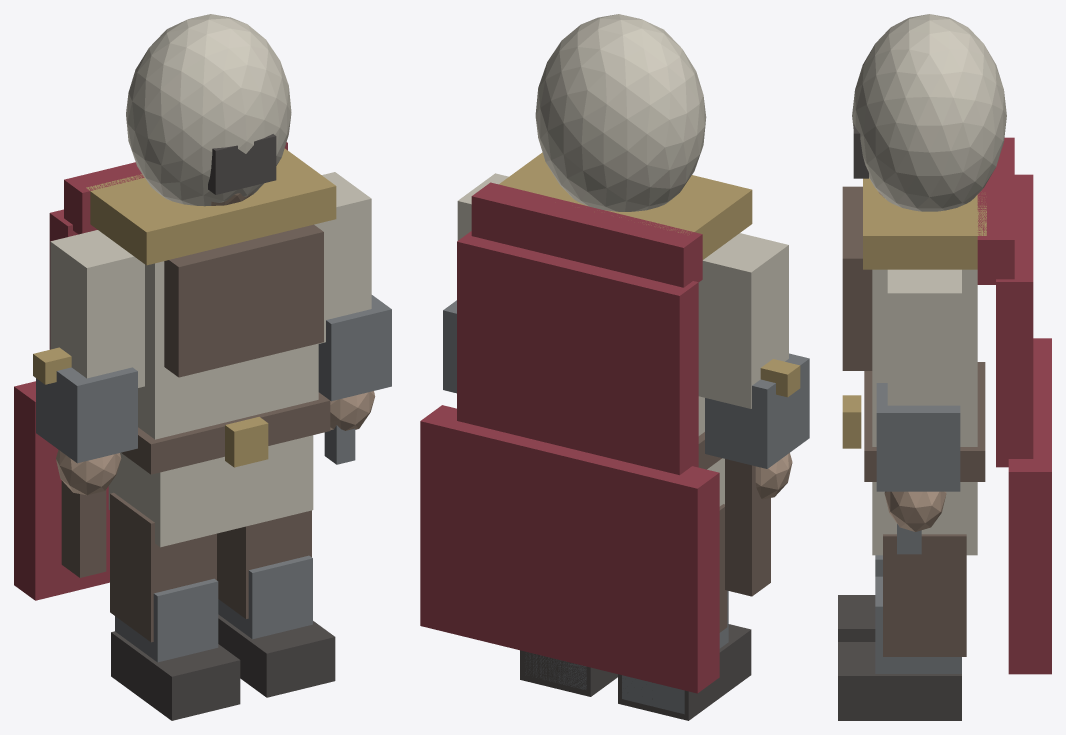
File: MUEANG_ISARA_Main_Assassin_02.glb
3 views of the same model, side by side, from view 1: azimuth 30°, elevation 25°; view 2: azimuth 150°, elevation 25°; view 3: azimuth 270°, elevation 25° (orthographic). The views are drawn at different scales.
Visible parts, largest first — view 1: Raised_Hood, Chest_Armor, Shoulder_Trim, Pelvis_Tunic, Tunic_Torso, L_UpperSleeve, Cape_Lower, L_Thigh, L_Bracer, L_Boot, R_Boot, R_UpperSleeve (+14 smaller); view 2: Cape_Lower, Cape_Upper, Raised_Hood, Cape_Shoulder, L_UpperSleeve, L_Bracer, Shoulder_Trim, Sword_Sheath, L_Boot, R_Boot, L_Greave, R_Bracer (+5 smaller); view 3: Raised_Hood, Cape_Lower, R_UpperSleeve, R_Thigh, Cape_Upper, Shoulder_Trim, R_Bracer, R_Boot, Tunic_Torso, Chest_Armor, Cape_Shoulder, Pelvis_Tunic (+7 smaller).
Boxes of the visible parts, bbox=[...] form: Raised_Hood: bbox=[126, 14, 291, 206]; Chest_Armor: bbox=[164, 224, 323, 377]; Shoulder_Trim: bbox=[86, 148, 336, 265]; Pelvis_Tunic: bbox=[108, 435, 313, 547]; Tunic_Torso: bbox=[138, 223, 318, 439]; L_UpperSleeve: bbox=[50, 230, 144, 387]; Cape_Lower: bbox=[14, 381, 109, 600]; L_Thigh: bbox=[110, 492, 216, 642]; L_Bracer: bbox=[36, 367, 137, 463]; L_Boot: bbox=[111, 631, 240, 720]; R_Boot: bbox=[218, 614, 335, 697]; R_UpperSleeve: bbox=[318, 172, 371, 343]; Cape_Lower: bbox=[420, 405, 719, 693]; Cape_Upper: bbox=[457, 231, 698, 475]; Raised_Hood: bbox=[535, 14, 706, 211]; Cape_Shoulder: bbox=[471, 182, 702, 287]; L_UpperSleeve: bbox=[698, 233, 788, 408]; L_Bracer: bbox=[705, 353, 809, 468]; Shoulder_Trim: bbox=[499, 152, 752, 259]; Sword_Sheath: bbox=[725, 459, 770, 596]; L_Boot: bbox=[618, 624, 751, 720]; R_Boot: bbox=[520, 650, 617, 696]; L_Greave: bbox=[622, 590, 728, 714]; R_Bracer: bbox=[443, 300, 456, 393]; Raised_Hood: bbox=[852, 14, 1006, 211]; Cape_Lower: bbox=[1008, 338, 1051, 674]; R_UpperSleeve: bbox=[887, 269, 961, 427]; R_Thigh: bbox=[883, 534, 966, 656]; Cape_Upper: bbox=[996, 174, 1033, 467]; Shoulder_Trim: bbox=[863, 178, 986, 269]; R_Bracer: bbox=[876, 383, 960, 491]; R_Boot: bbox=[838, 642, 961, 720]; Tunic_Torso: bbox=[872, 269, 977, 446]; Chest_Armor: bbox=[842, 186, 872, 370]; Cape_Shoulder: bbox=[977, 137, 1014, 284]; Pelvis_Tunic: bbox=[872, 482, 977, 555].
Bounding box in the file's own units: 1.24 × 2.35 × 0.69.
